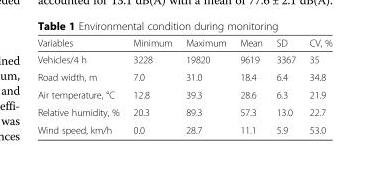table: (36, 36, 331, 135)
table column: (36, 36, 125, 135), (178, 36, 232, 135), (125, 36, 178, 135), (232, 36, 268, 135), (268, 36, 301, 135), (301, 36, 331, 135)
table column header: (36, 36, 331, 50)
table row: (36, 67, 331, 85), (36, 85, 331, 103), (36, 50, 331, 67), (36, 103, 331, 120), (36, 120, 331, 135), (36, 36, 331, 50)
